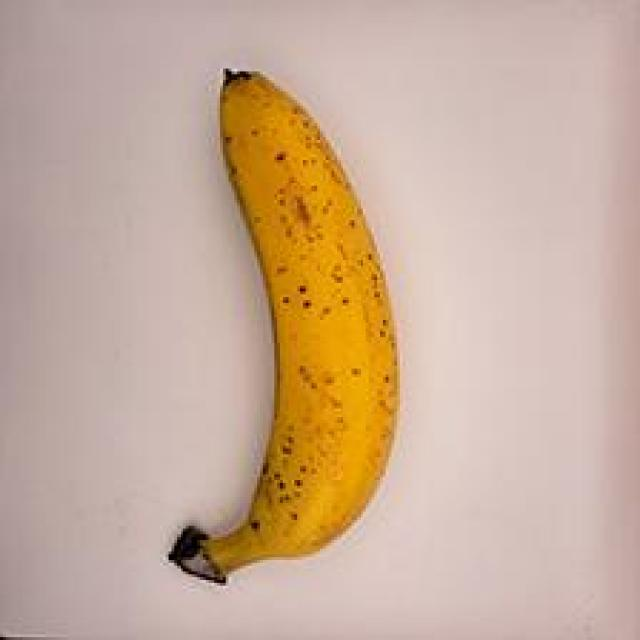Overripe: (122, 30, 433, 604)
